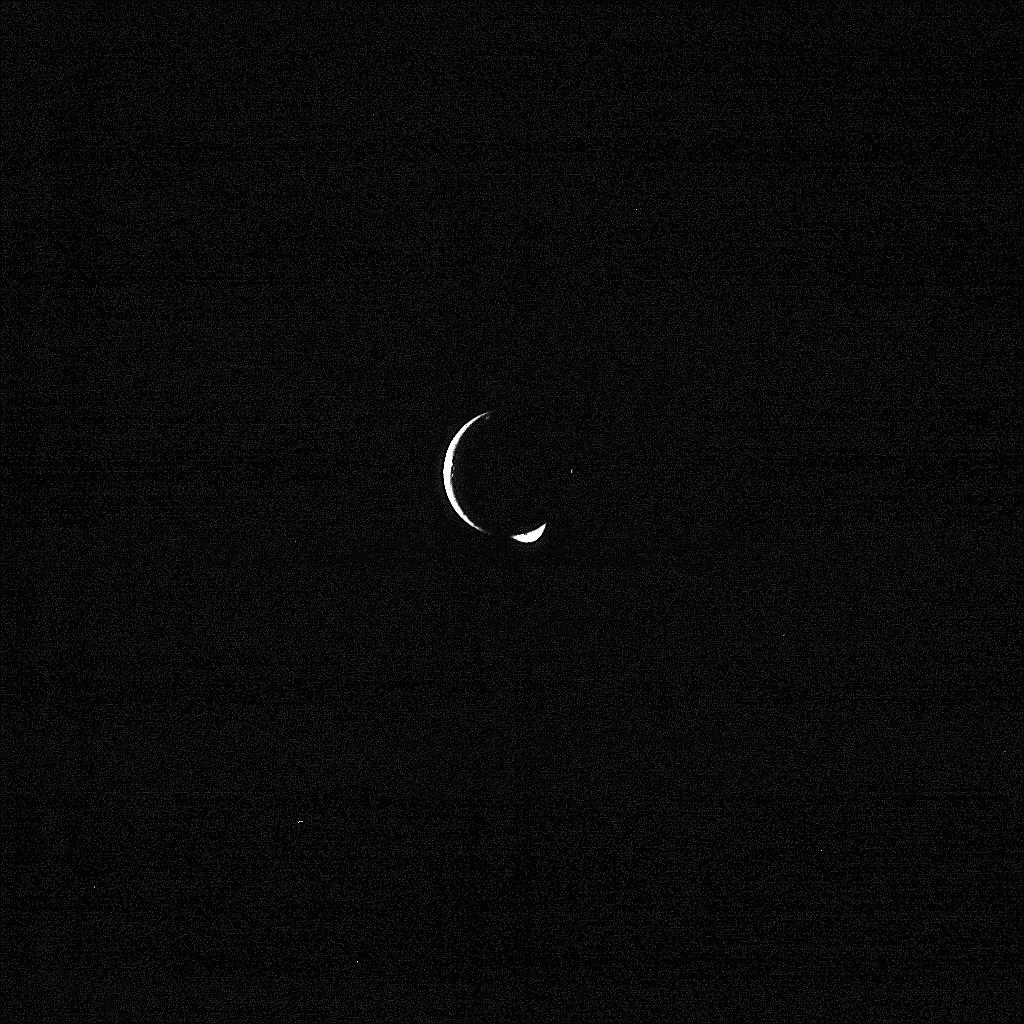plumes: (510, 522, 546, 544), (570, 468, 574, 475)
